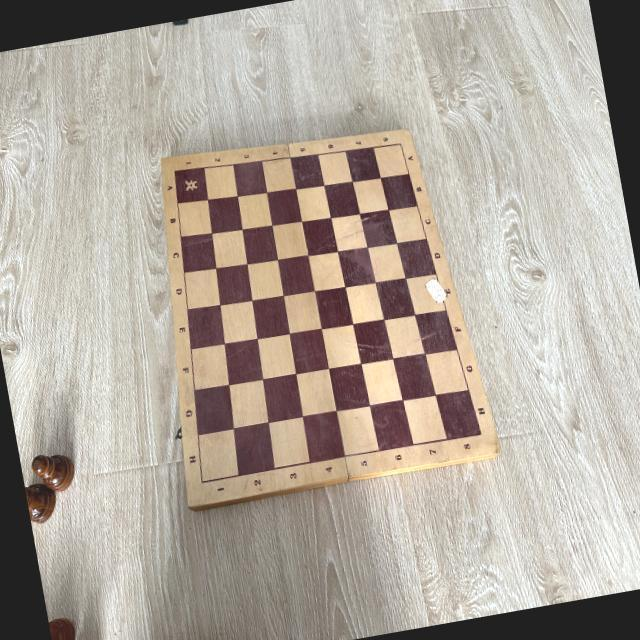chess-table-corners: (170, 164, 180, 178), (198, 476, 206, 488), (396, 140, 404, 148), (477, 430, 484, 438)
